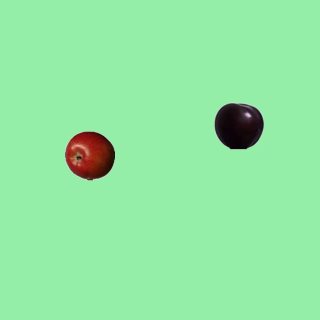Apple Braeburn: (64, 130, 114, 180)
Cherry Wax Black: (213, 100, 263, 150)
